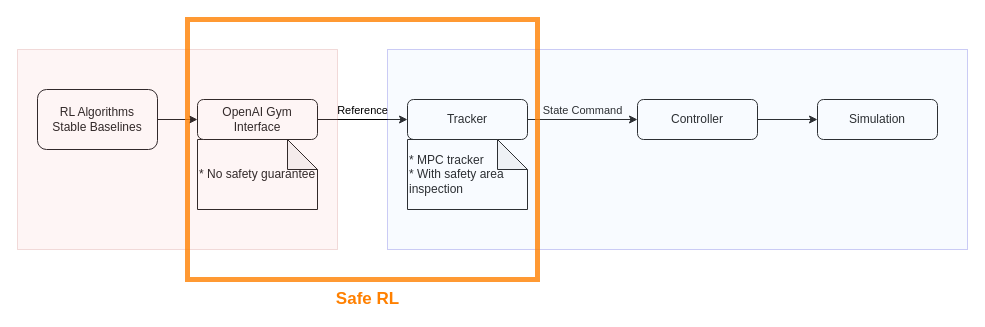
Some shapes in this 985 by 327 pixel diagram are drawn without their labels. The centre of each missing label's shape, as x and y in pixels:
"CTU MRS System" belongs at [677,149].
"My Work: RL Extension" belongs at [177,149].
